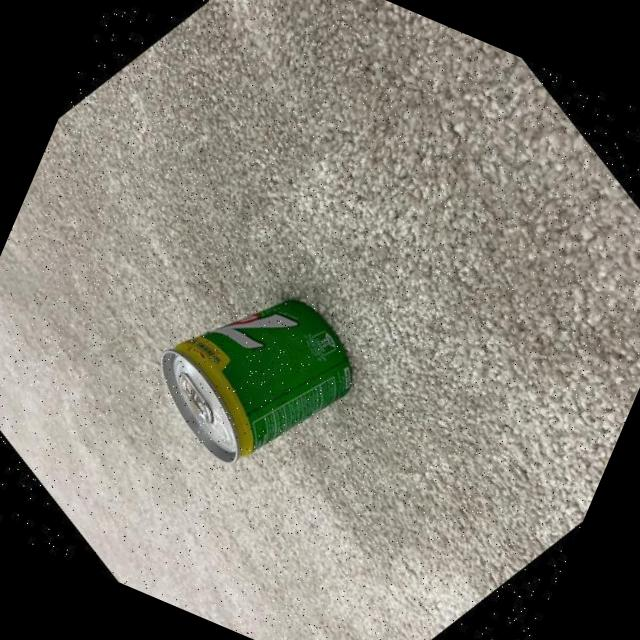Kaleng: (132, 259, 376, 499)
